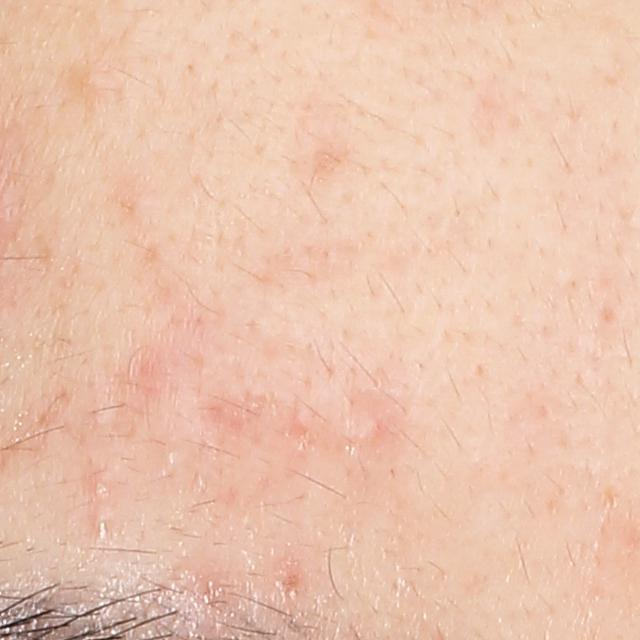comedo: (72, 61, 115, 97), (88, 474, 118, 504)
